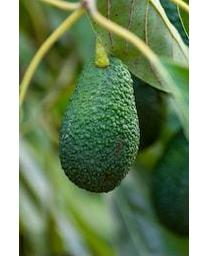avocado: (59, 55, 139, 194)
